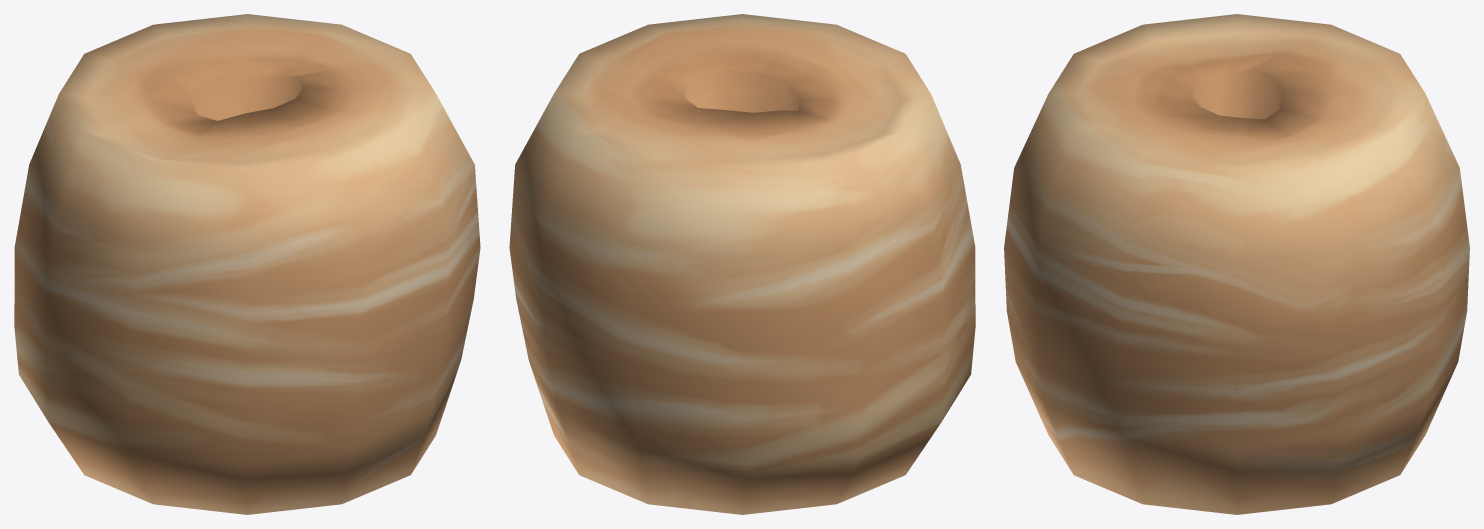
The model's file is pork_makchang.fbx.
3 views of the same model, side by side, from view 1: azimuth 30°, elevation 25°; view 2: azimuth 150°, elevation 25°; view 3: azimuth 270°, elevation 25° (orthographic).
Visible parts, largest first — view 1: pork_makchang; view 2: pork_makchang; view 3: pork_makchang.
Part boxes in pixels (<box>): pork_makchang: <box>14,14,480,514</box>; pork_makchang: <box>509,14,975,514</box>; pork_makchang: <box>1004,14,1469,514</box>.
Size of the model in its own units: 25.14 by 21.26 by 25.11.
